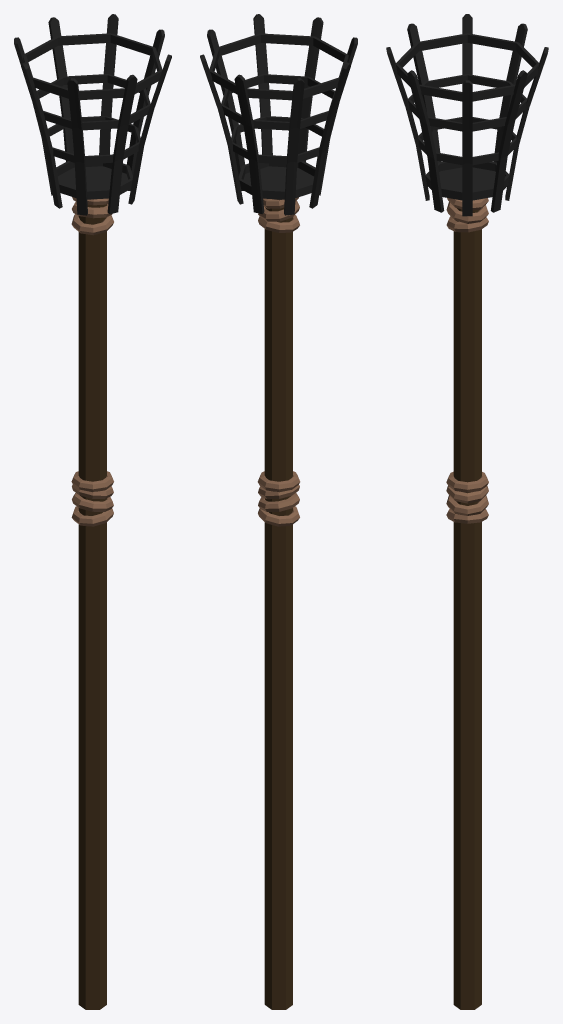
The model's file is Torch_001.fbx.
3 views of the same model, side by side, from view 1: azimuth 30°, elevation 25°; view 2: azimuth 150°, elevation 25°; view 3: azimuth 270°, elevation 25° (orthographic).
Visible parts, largest first — view 1: torch_001; view 2: torch_001; view 3: torch_001.
Part boxes in pixels (x1,y1,x2,y2): torch_001: (14, 14, 171, 1009); torch_001: (200, 14, 357, 1009); torch_001: (386, 14, 548, 1009).
Size of the model in its own units: 22.93 by 149 by 22.93.
